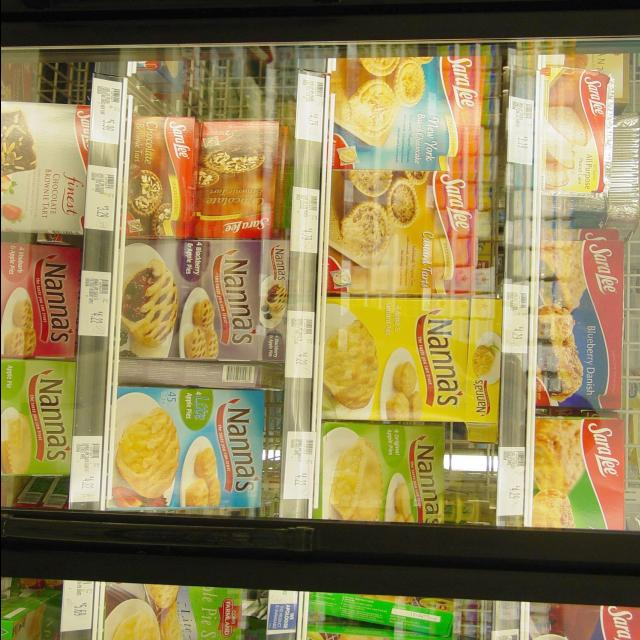empty_space: (0, 44, 95, 101)
